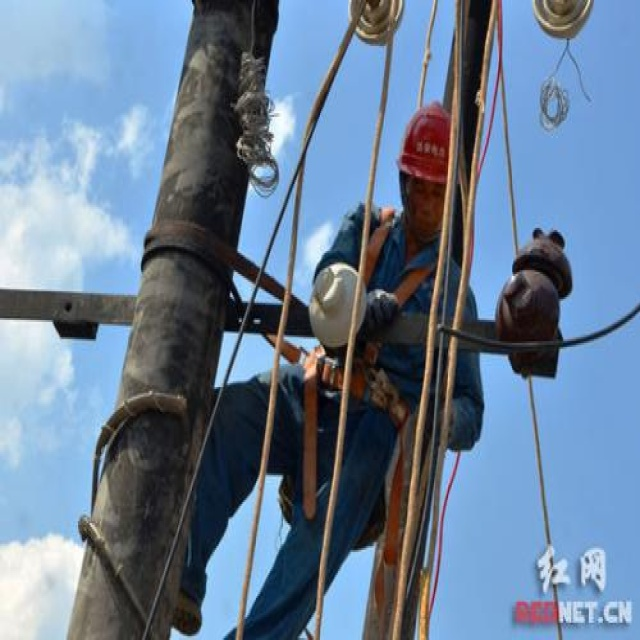Helmet: (381, 86, 480, 266)
